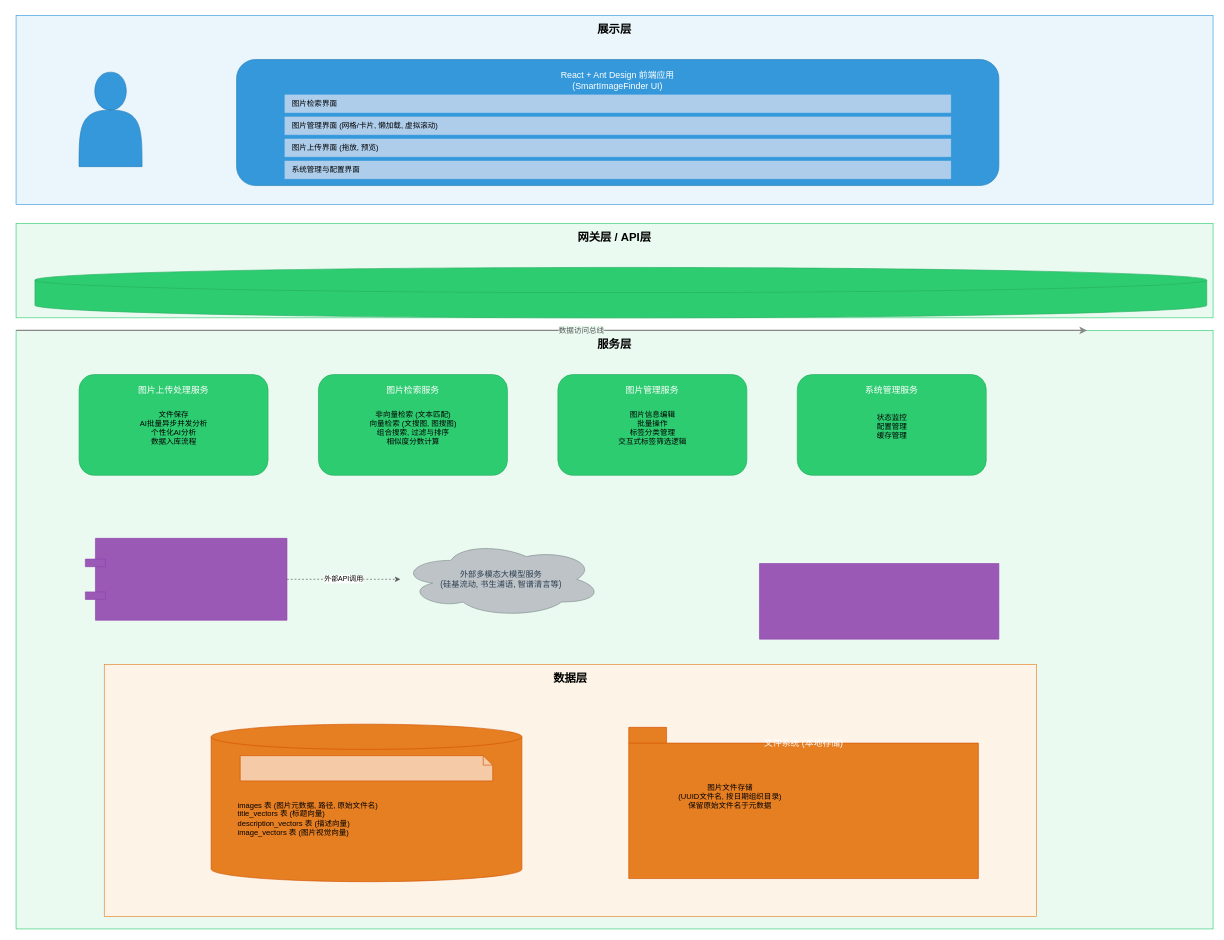
Image size: 1224x940. Some labels were removed from this diagram. The shapes that lost their labels are listed below. From the top down, each one's centre as x and y in pixels, then its label:
pixel 110 119: 用户
pixel 620 292: FastAPI 应用服务器 (RESTful API Endpoints)
pixel 186 579: 多模态模型 API 客户端 (硅基流动, 书生浦语等) (智能标题, 描述, 标签生成)
pixel 879 601: Jina CLIP V2 模型 (图片/文本向量生成)
pixel 366 768: sqlite-vec 扩展 (高效向量近邻搜索)
